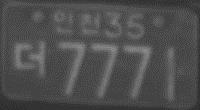1: (159, 47, 184, 100)
3: (102, 11, 123, 38)
5: (126, 12, 145, 40)
7: (56, 40, 87, 96), (123, 44, 152, 100), (89, 42, 118, 97)
더: (13, 40, 48, 77)
인천_O: (54, 10, 99, 35)
